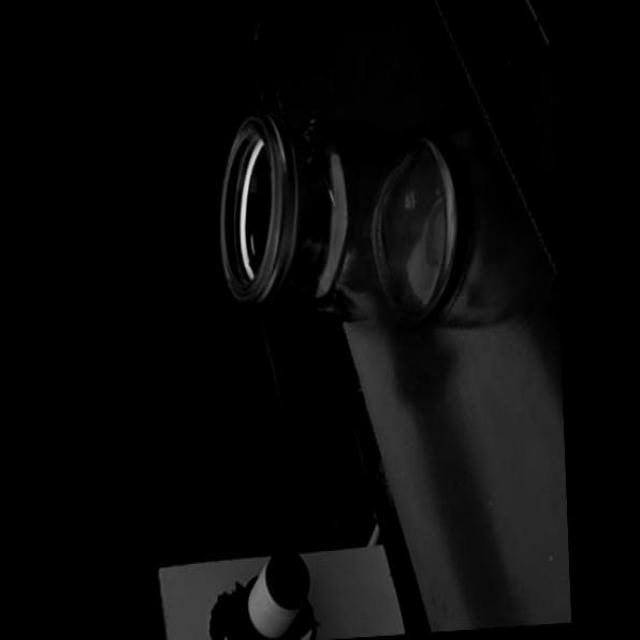defect: (324, 181, 340, 209)
glass: (212, 103, 467, 336)
